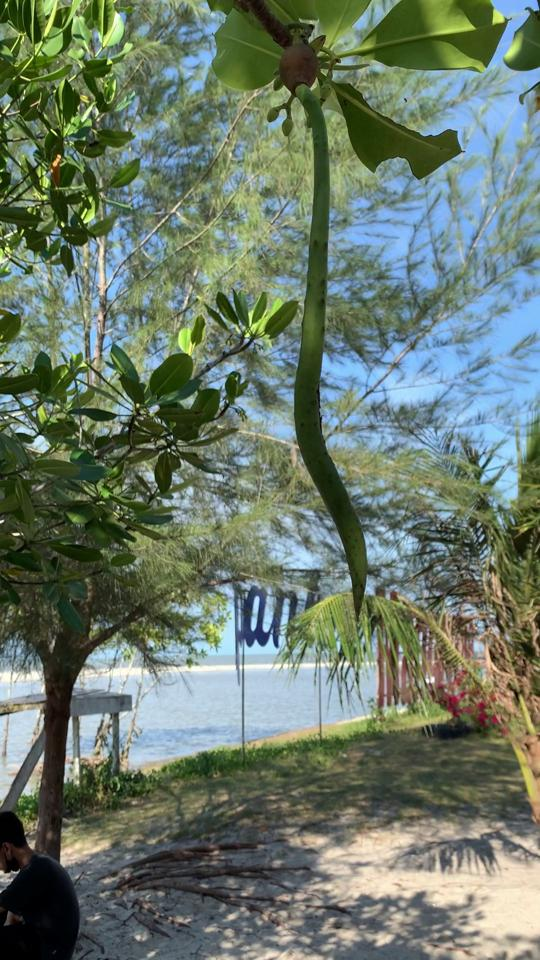setengah matang: (267, 26, 383, 633)
